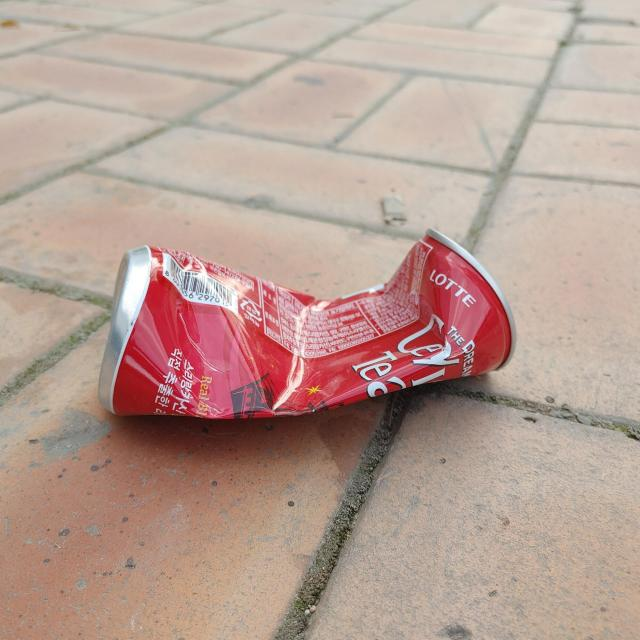can: (98, 229, 516, 419)
